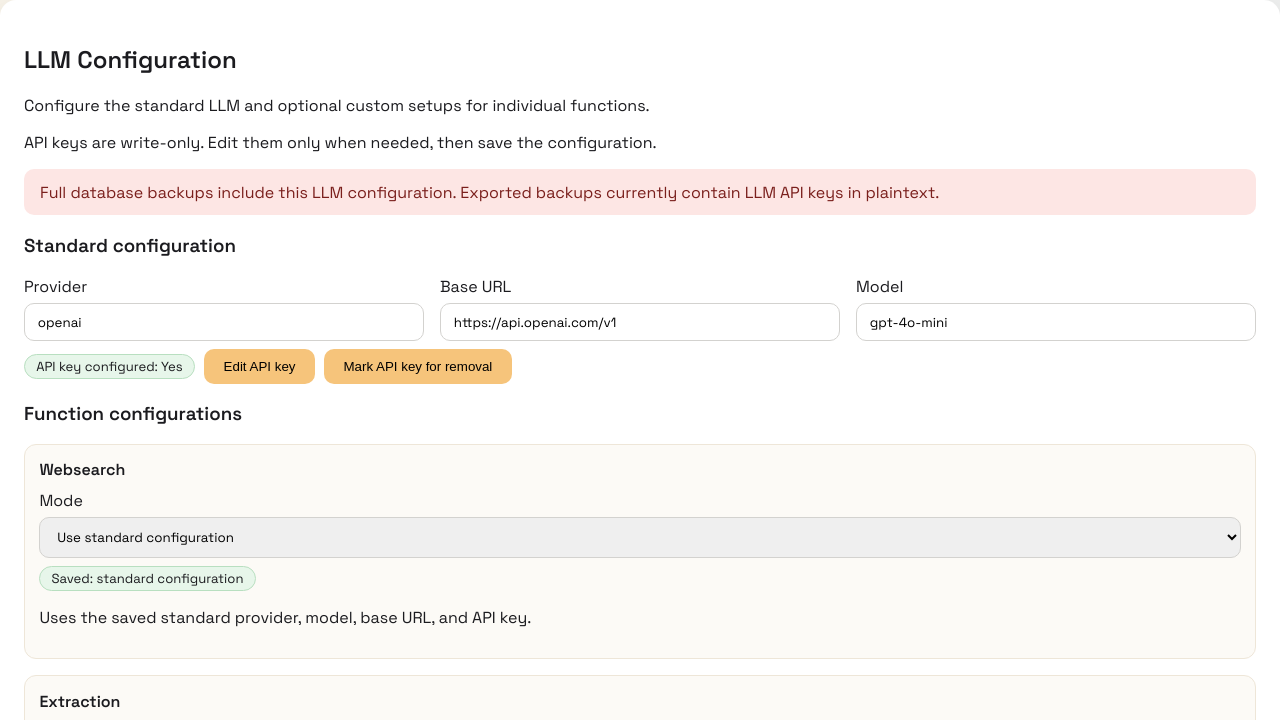
Scenario: LlmConfigurationView › shows a pending custom state when switching from standard to custom
Select "Use custom configuration" in the dropdown labelled "Mode": (640,538) x1=39 y1=517 x2=1241 y2=558
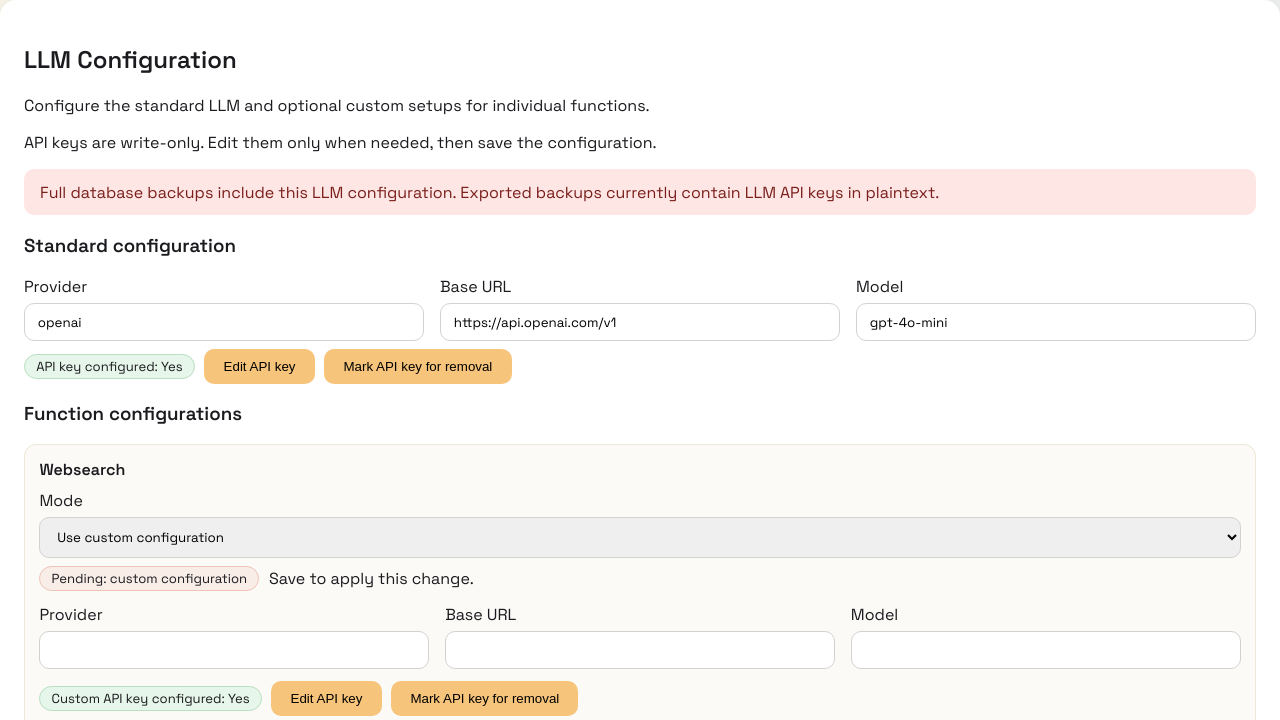
Now the text "Pending: custom configuration" is shown, box x1=39 y1=566 x2=259 y2=591
Now the text "Save to apply this change." is shown, box x1=269 y1=568 x2=474 y2=589
